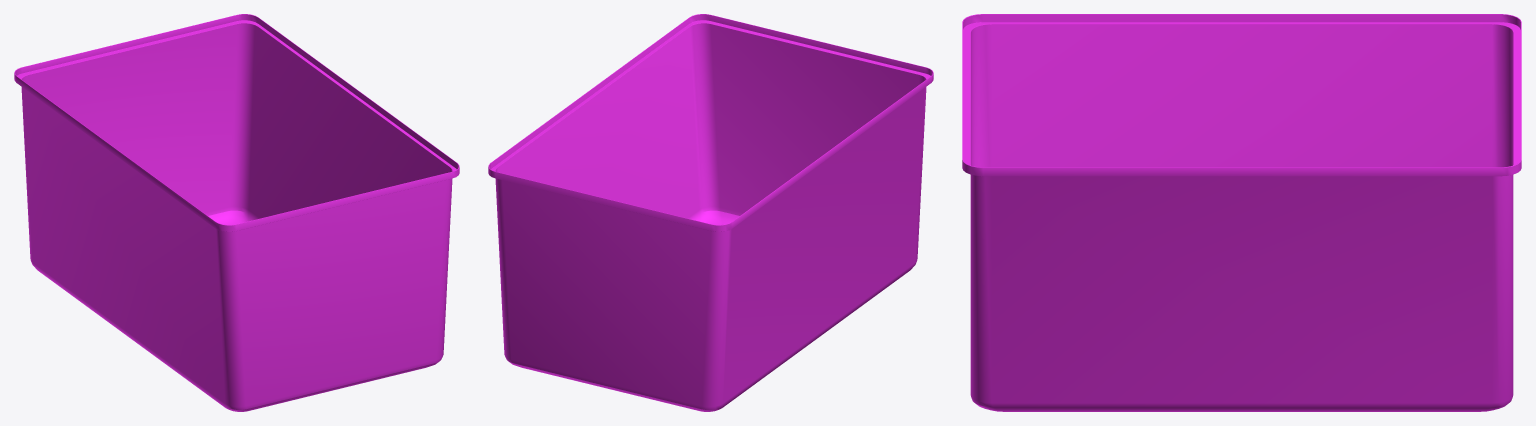
Rendered from samla_big.fbx.
The picture shows the model from 3 angles, left to right: view 1: azimuth 30°, elevation 25°; view 2: azimuth 150°, elevation 25°; view 3: azimuth 270°, elevation 25°; orthographic projection. The views are drawn at different scales.
Visible parts, largest first — view 1: Ikea Shelves Stairs Storage.004; view 2: Ikea Shelves Stairs Storage.004; view 3: Ikea Shelves Stairs Storage.004.
Boxes of the visible parts, <box> form: Ikea Shelves Stairs Storage.004: <box>14,14,459,411</box>; Ikea Shelves Stairs Storage.004: <box>488,14,933,411</box>; Ikea Shelves Stairs Storage.004: <box>962,14,1521,411</box>.
Bounding box in the file's own units: 33.08 × 25.97 × 50.87.
